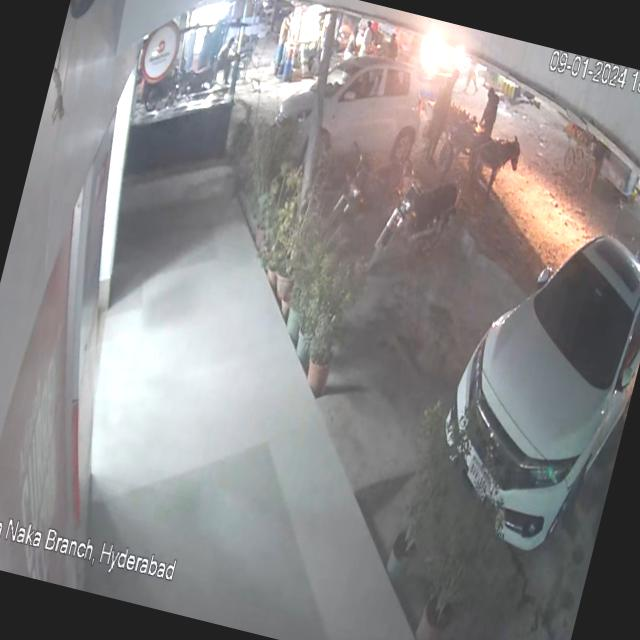Car: (415, 188, 640, 584), (265, 37, 450, 198)
Motorcycle: (367, 149, 471, 296), (322, 146, 404, 263)
